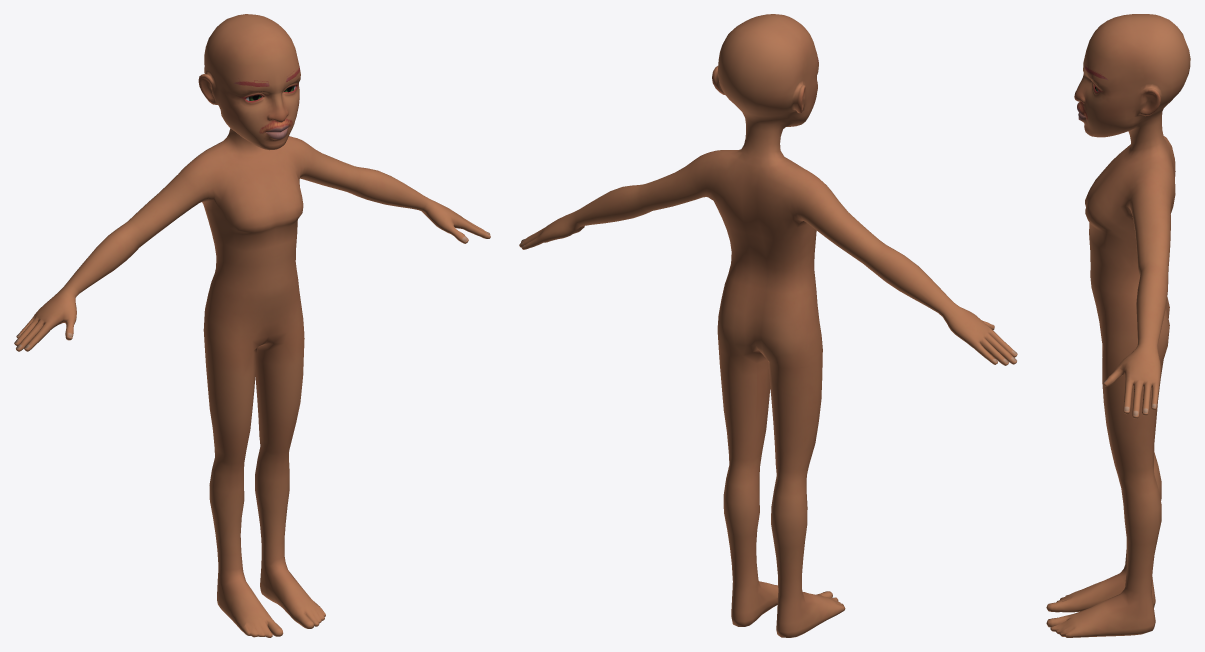
Rendered from frame_0037.glb.
3 renders of one model, left to right at view 1: azimuth 30°, elevation 25°; view 2: azimuth 150°, elevation 25°; view 3: azimuth 270°, elevation 25°, orthographic. The views are drawn at different scales.
Visible parts, largest first — view 1: frame_0037_head_geo; view 2: frame_0037_head_geo; view 3: frame_0037_head_geo.
Boxes of the visible parts, x1,y1,x2,y2 form: frame_0037_head_geo: (14, 14, 490, 637); frame_0037_head_geo: (519, 14, 1017, 637); frame_0037_head_geo: (1046, 14, 1190, 637).
Size of the model in its own units: 1.28 by 1.5 by 0.3253.
3 materials, 3 textured.
